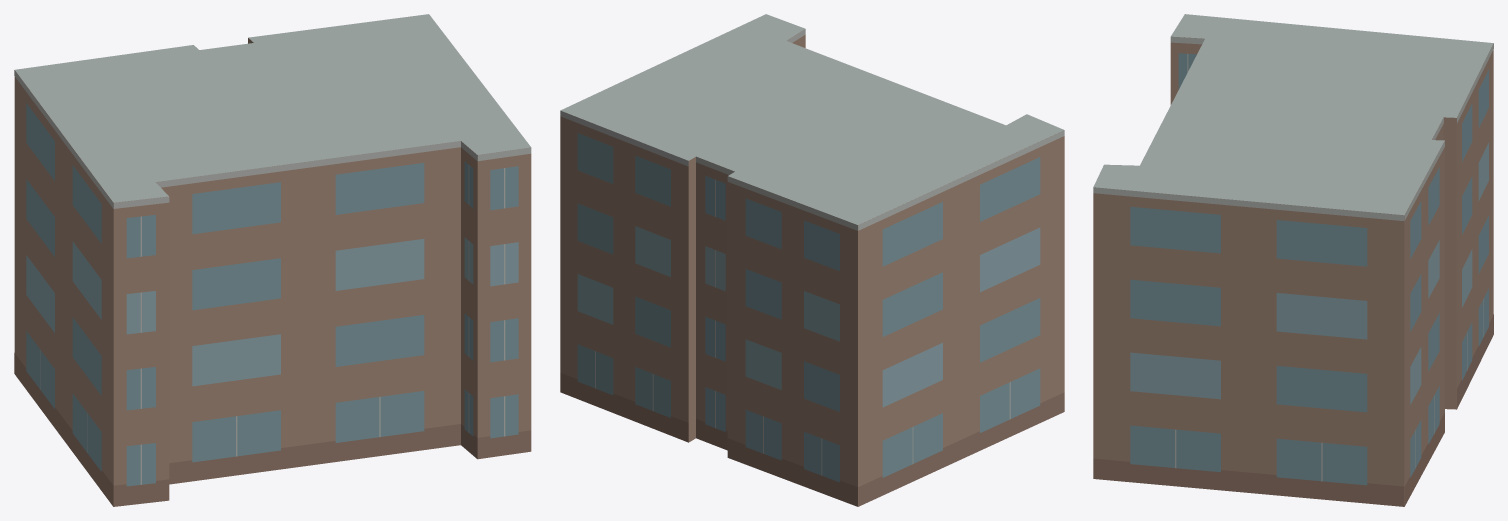
File: survey-upis-32692312.glb
3 views of the same model, side by side, from view 1: azimuth 30°, elevation 25°; view 2: azimuth 150°, elevation 25°; view 3: azimuth 270°, elevation 25° (orthographic). The views are drawn at different scales.
Visible parts, largest first — view 1: survey-upis-32692312.tmp; view 2: survey-upis-32692312.tmp; view 3: survey-upis-32692312.tmp.
Boxes of the visible parts, box(x1,y1,x2,y2) form: survey-upis-32692312.tmp: box(14, 14, 531, 506); survey-upis-32692312.tmp: box(560, 14, 1064, 506); survey-upis-32692312.tmp: box(1093, 14, 1493, 506).
Size of the model in its own units: 17.69 by 11.95 by 14.88.
